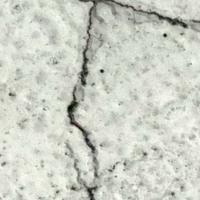crack: (64, 0, 199, 182)
